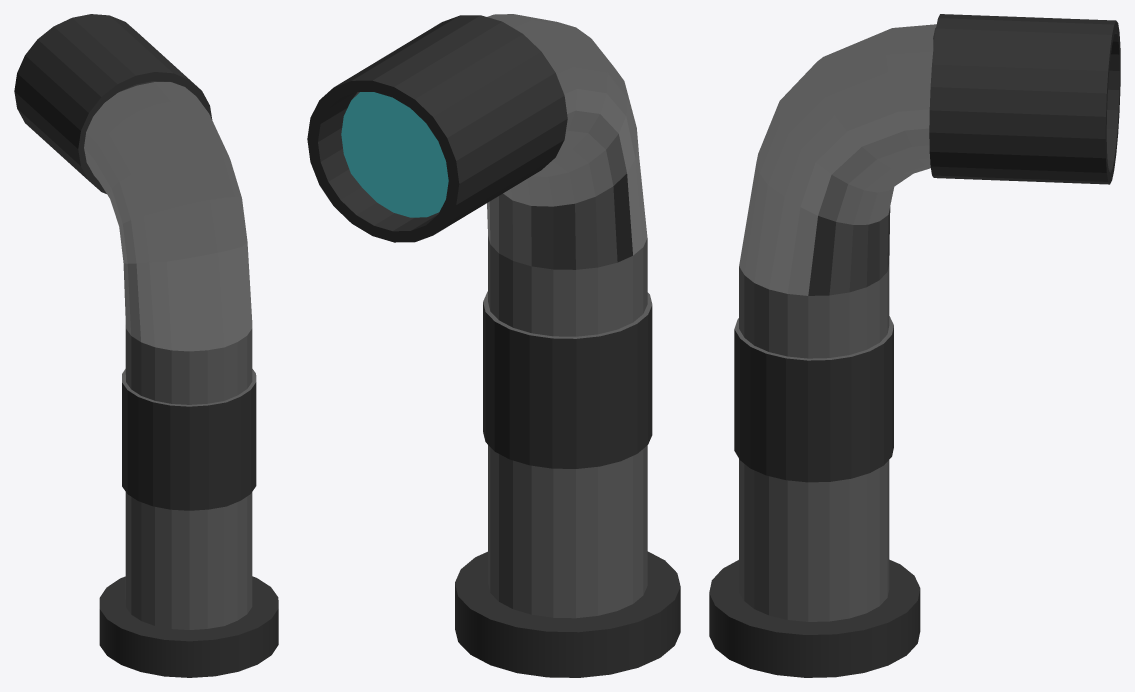
The model's file is 92f8e50b-c8a8-4976-b1e7-91aac4b29c2a.glb.
3 renders of one model, left to right at view 1: azimuth 30°, elevation 25°; view 2: azimuth 150°, elevation 25°; view 3: azimuth 270°, elevation 25°, orthographic. The views are drawn at different scales.
Parts seen in each view (by area): view 1: Cylinder005, Cylinder006, Cylinder004; view 2: Cylinder005, Cylinder006, Cylinder004; view 3: Cylinder005, Cylinder006, Cylinder004.
Boxes of the visible parts, x1=… form: Cylinder005: x1=84, y1=81, x2=256, y2=629; Cylinder006: x1=14, y1=14, x2=212, y2=193; Cylinder004: x1=99, y1=576, x2=278, y2=677; Cylinder005: x1=341, y1=14, x2=652, y2=618; Cylinder006: x1=307, y1=15, x2=567, y2=242; Cylinder004: x1=455, y1=551, x2=680, y2=677; Cylinder005: x1=734, y1=24, x2=936, y2=621; Cylinder006: x1=929, y1=14, x2=1120, y2=184; Cylinder004: x1=709, y1=559, x2=920, y2=677.
Bounding box in the file's own units: 145282 × 450376 × 273117.
